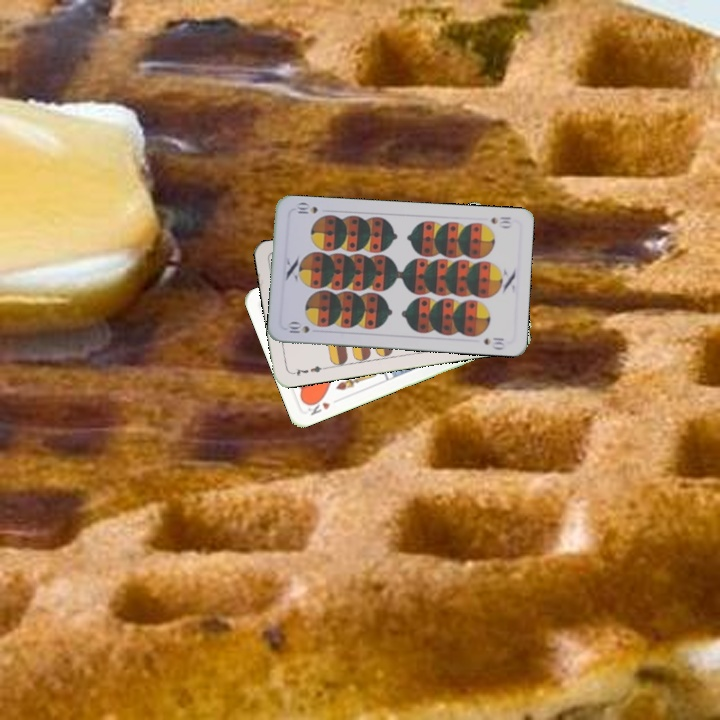E7: (288, 362, 328, 379)
HK: (304, 398, 333, 418)
S10: (487, 212, 514, 230), (284, 319, 312, 336)
